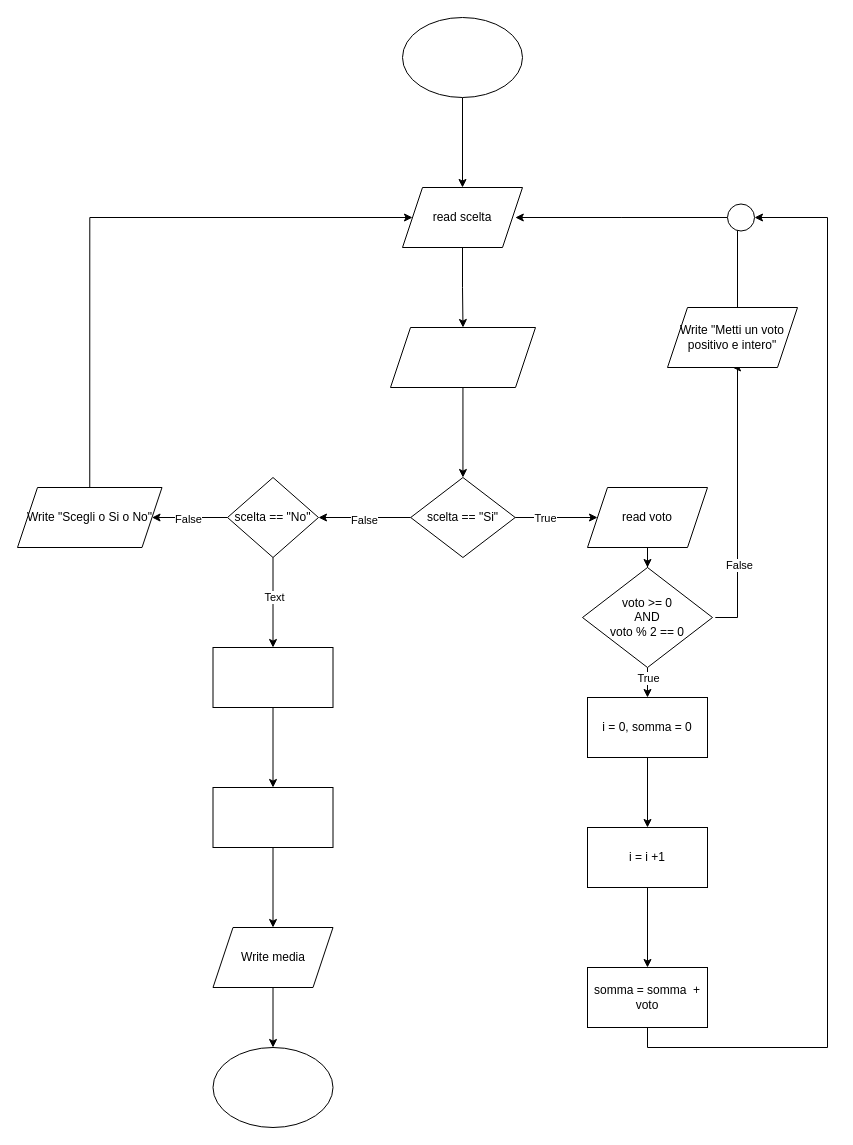
The diagram is 853 pixels wide and 1145 high, and some of its shapes have lost their labels. The centre of each missing label's shape, as x and y in pixels:
end: pixel 272 1087
media = 0: pixel 272 677
media = somma / i: pixel 272 817
start: pixel 462 57
Write "vuoi inserire il voto?": pixel 463 357
